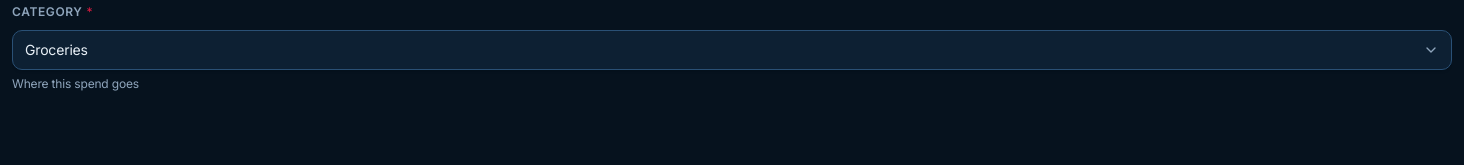
Test case: Select › labels the trigger and writes the chosen option to the form as a number
Expected: the text "Where this spend goes" is shown, x1=12 y1=76 x2=139 y2=91
Click the dropdown named "Category" at [56, 50], box x1=12 y1=30 x2=1452 y2=70
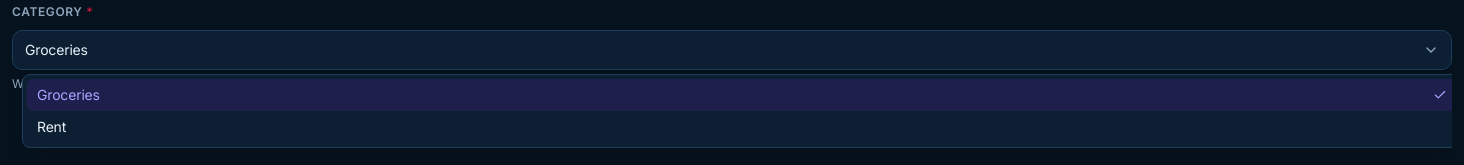
Click the option "Rent" at [52, 126], box x1=37 y1=118 x2=66 y2=135
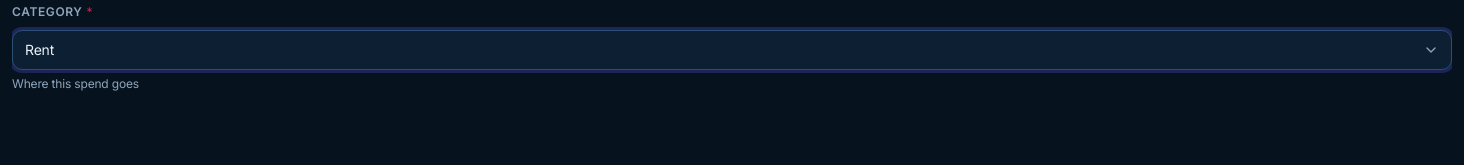
Expected: the dropdown named "Category" reads "Rent", x1=12 y1=30 x2=1452 y2=70
